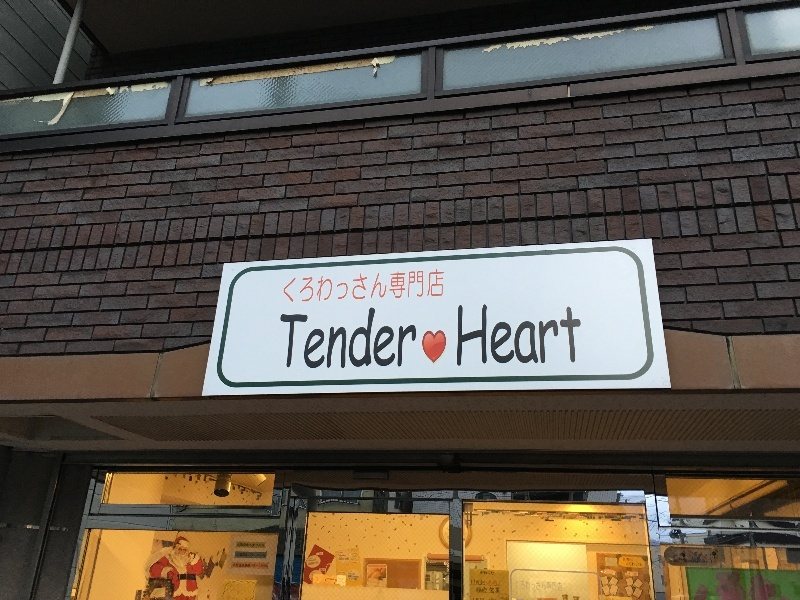text: (289, 302, 304, 371), (305, 302, 320, 371), (321, 302, 336, 371), (337, 302, 352, 371), (353, 302, 368, 371), (369, 302, 384, 371), (385, 302, 400, 371), (401, 302, 416, 371), (465, 302, 480, 368), (481, 302, 496, 368), (497, 302, 512, 368), (513, 302, 528, 368), (529, 302, 544, 368), (545, 302, 560, 368), (561, 302, 576, 368), (417, 302, 430, 371), (279, 302, 288, 371), (305, 270, 320, 306), (321, 270, 336, 306), (337, 270, 352, 306), (353, 270, 368, 306), (369, 270, 384, 306), (385, 270, 400, 306), (401, 270, 416, 306), (417, 270, 432, 306), (433, 270, 446, 306), (292, 270, 304, 306), (458, 302, 464, 368), (577, 302, 583, 368), (481, 580, 496, 586), (241, 552, 256, 557), (481, 571, 495, 576), (241, 543, 256, 547), (241, 564, 256, 568), (471, 580, 480, 586), (257, 552, 266, 557), (257, 564, 268, 568), (257, 543, 265, 547), (233, 564, 240, 568), (497, 580, 500, 586), (237, 552, 240, 557), (237, 543, 240, 547), (479, 571, 480, 576)
